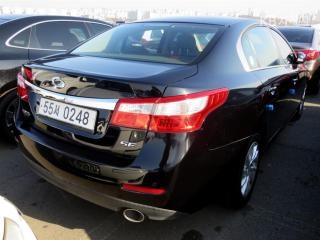0: (62, 106, 70, 120)
2: (69, 107, 76, 122)
4: (76, 108, 83, 125)
5: (42, 101, 49, 113), (48, 101, 54, 115)
8: (82, 111, 91, 126)
서: (54, 105, 60, 117)
